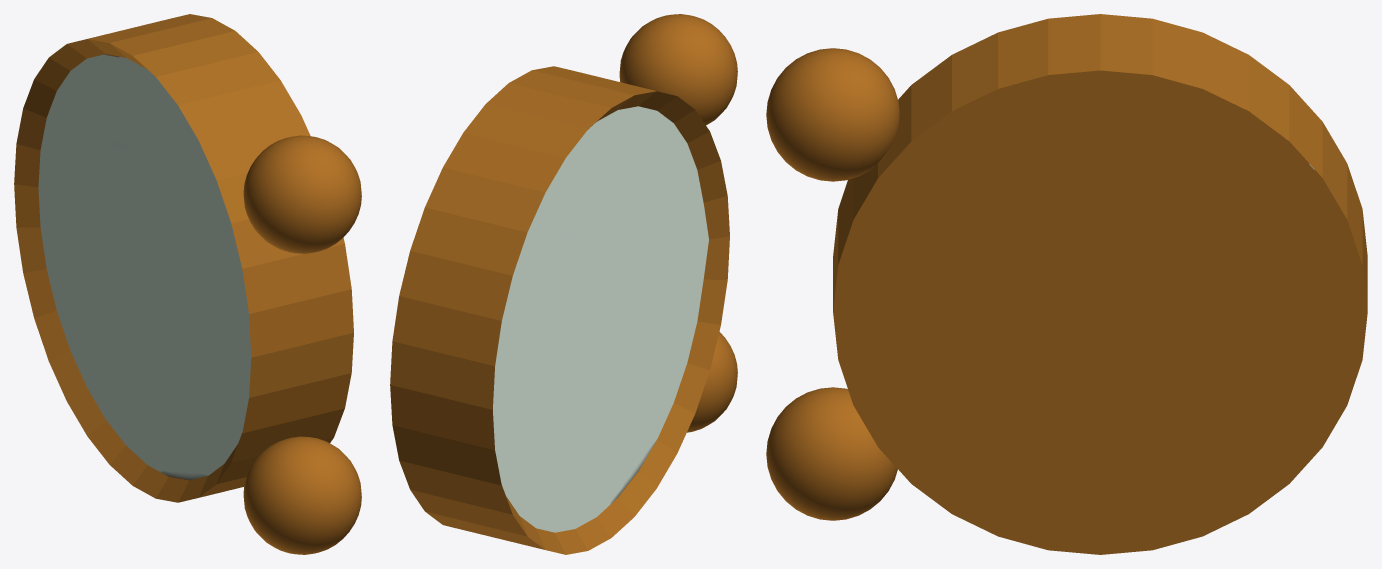
File: horloge.glb
3 views of the same model, side by side, from view 1: azimuth 30°, elevation 25°; view 2: azimuth 150°, elevation 25°; view 3: azimuth 270°, elevation 25° (orthographic). The views are drawn at different scales.
Visible parts, largest first — view 1: Sphere; view 2: Sphere; view 3: Sphere.
Boxes of the visible parts, <box> form: Sphere: <box>14,14,361,554</box>; Sphere: <box>390,14,737,554</box>; Sphere: <box>766,14,1367,554</box>.
Bounding box in the file's own units: 0.5 × 2 × 2.25.
Materials: 2 (2 with a texture image).
